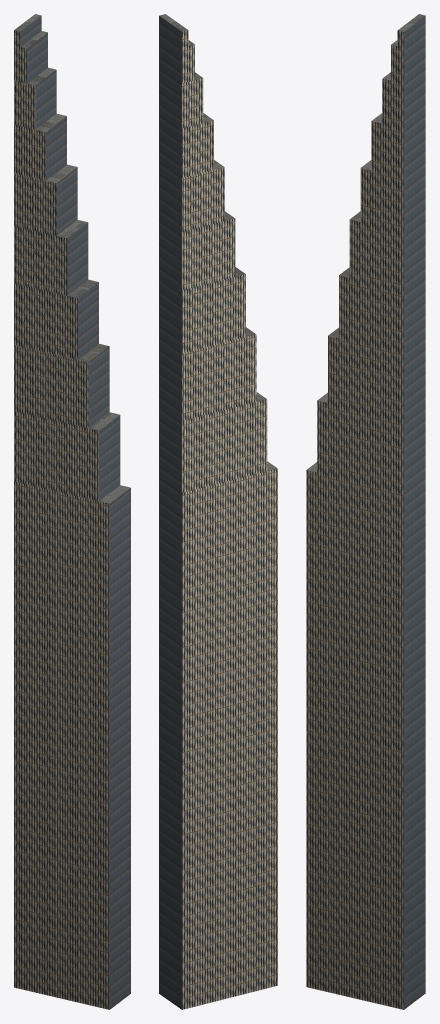
The picture shows the model from 3 angles, left to right: view 1: azimuth 90°, elevation 25°; view 2: azimuth 150°, elevation 25°; view 3: azimuth 270°, elevation 25°; orthographic projection. The views are drawn at different scales.
Parts seen in each view (by area): view 1: w57; view 2: w57; view 3: w57.
Part boxes in pixels (x1,y1,x2,y2): w57: (14, 14, 130, 1009); w57: (159, 14, 277, 1009); w57: (306, 14, 425, 1009).
Size of the model in its own units: 37.56 by 435 by 48.08.
Materials: 30 (30 with a texture image).
